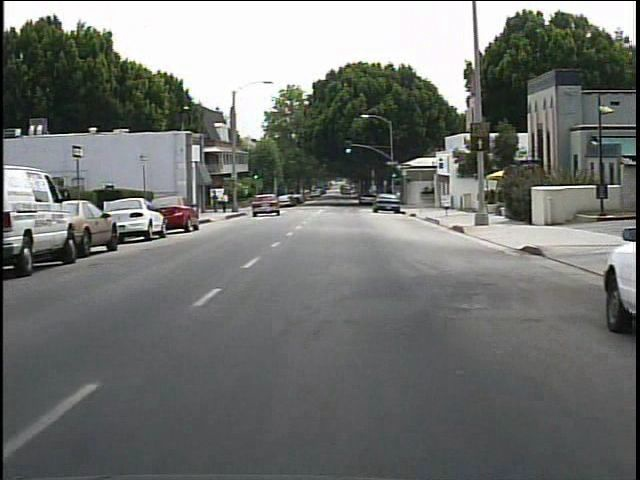person: (209, 191, 222, 215), (220, 191, 231, 214)
